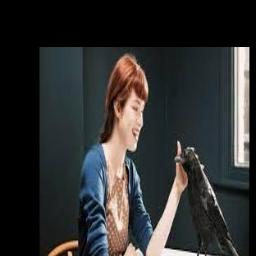Crow: (173, 149, 240, 256)
